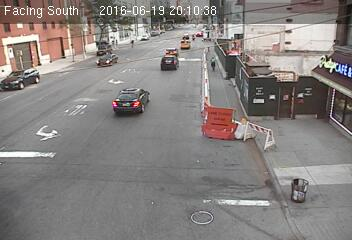neg: (66, 41, 77, 56)
pos: (205, 51, 223, 76)
